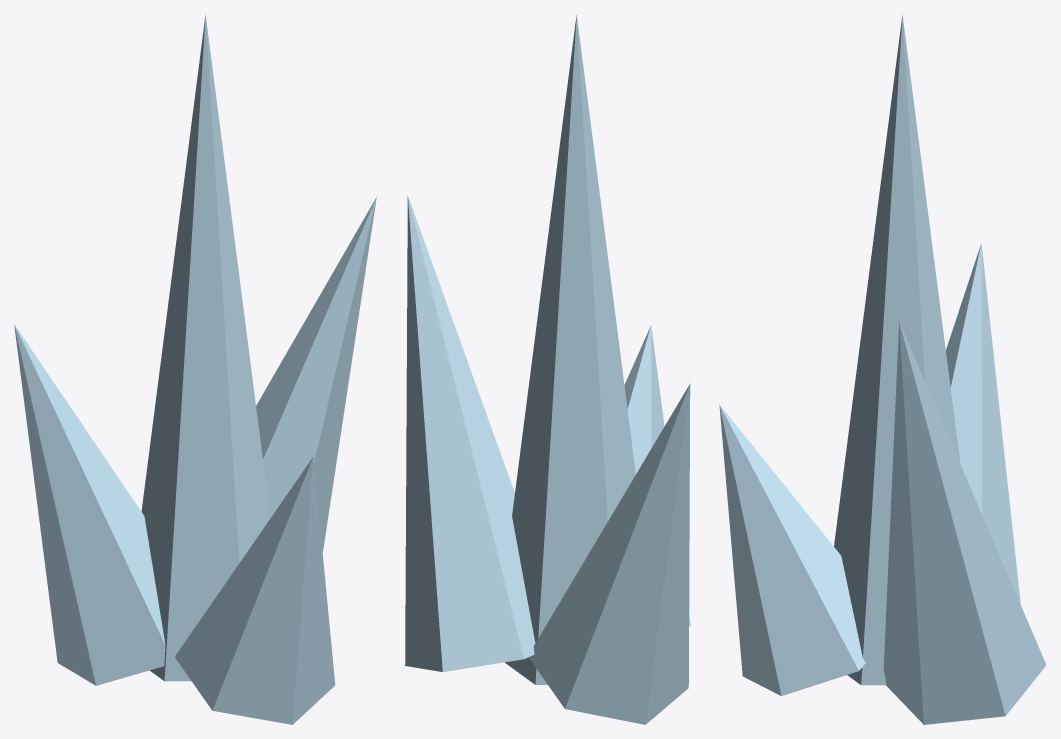
File: snow__ice.fbx
3 renders of one model, left to right at view 1: azimuth 30°, elevation 25°; view 2: azimuth 150°, elevation 25°; view 3: azimuth 270°, elevation 25°, orthographic.
Parts seen in each view (by area): view 1: snow__ice; view 2: snow__ice; view 3: snow__ice.
Part boxes in pixels (<box>): snow__ice: <box>14,15,376,724</box>; snow__ice: <box>405,15,690,724</box>; snow__ice: <box>719,14,1046,724</box>.
Size of the model in its own units: 1.27 by 2.47 by 1.11.
